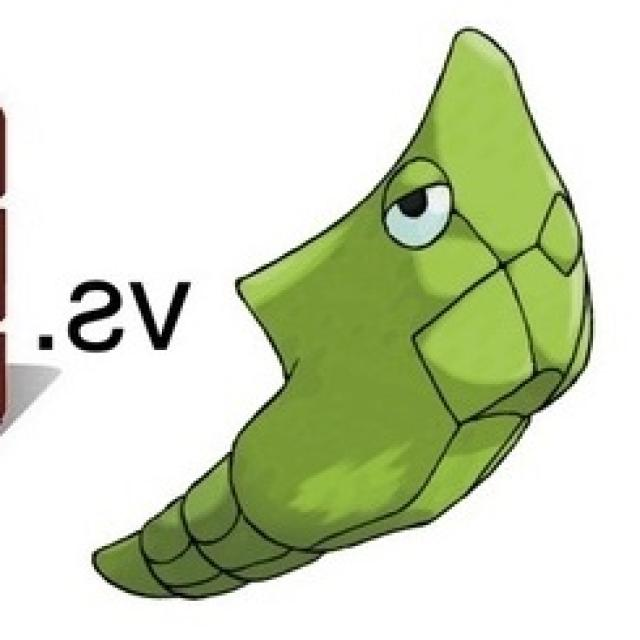Metapod: (89, 23, 594, 601)
